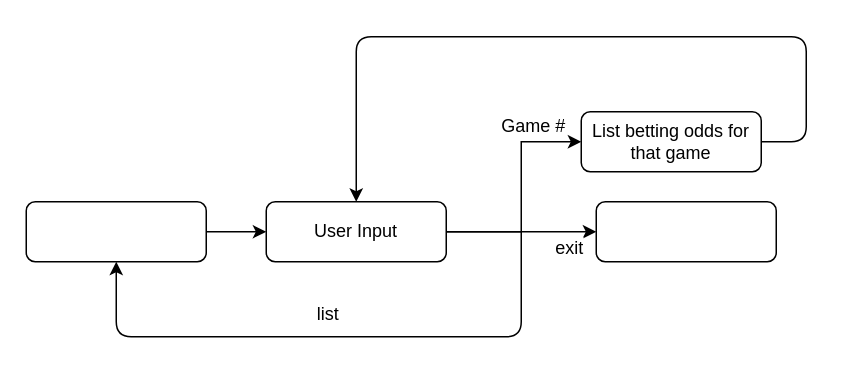
Some shapes in this 845 by 375 pixel diagram are drawn without their labels. The box of each missing label's shape, as (x1, y1, x2, y2) in pixels:
Exits Application: (595, 200, 776, 262)
List current week NFL Schedule: (25, 200, 206, 262)
